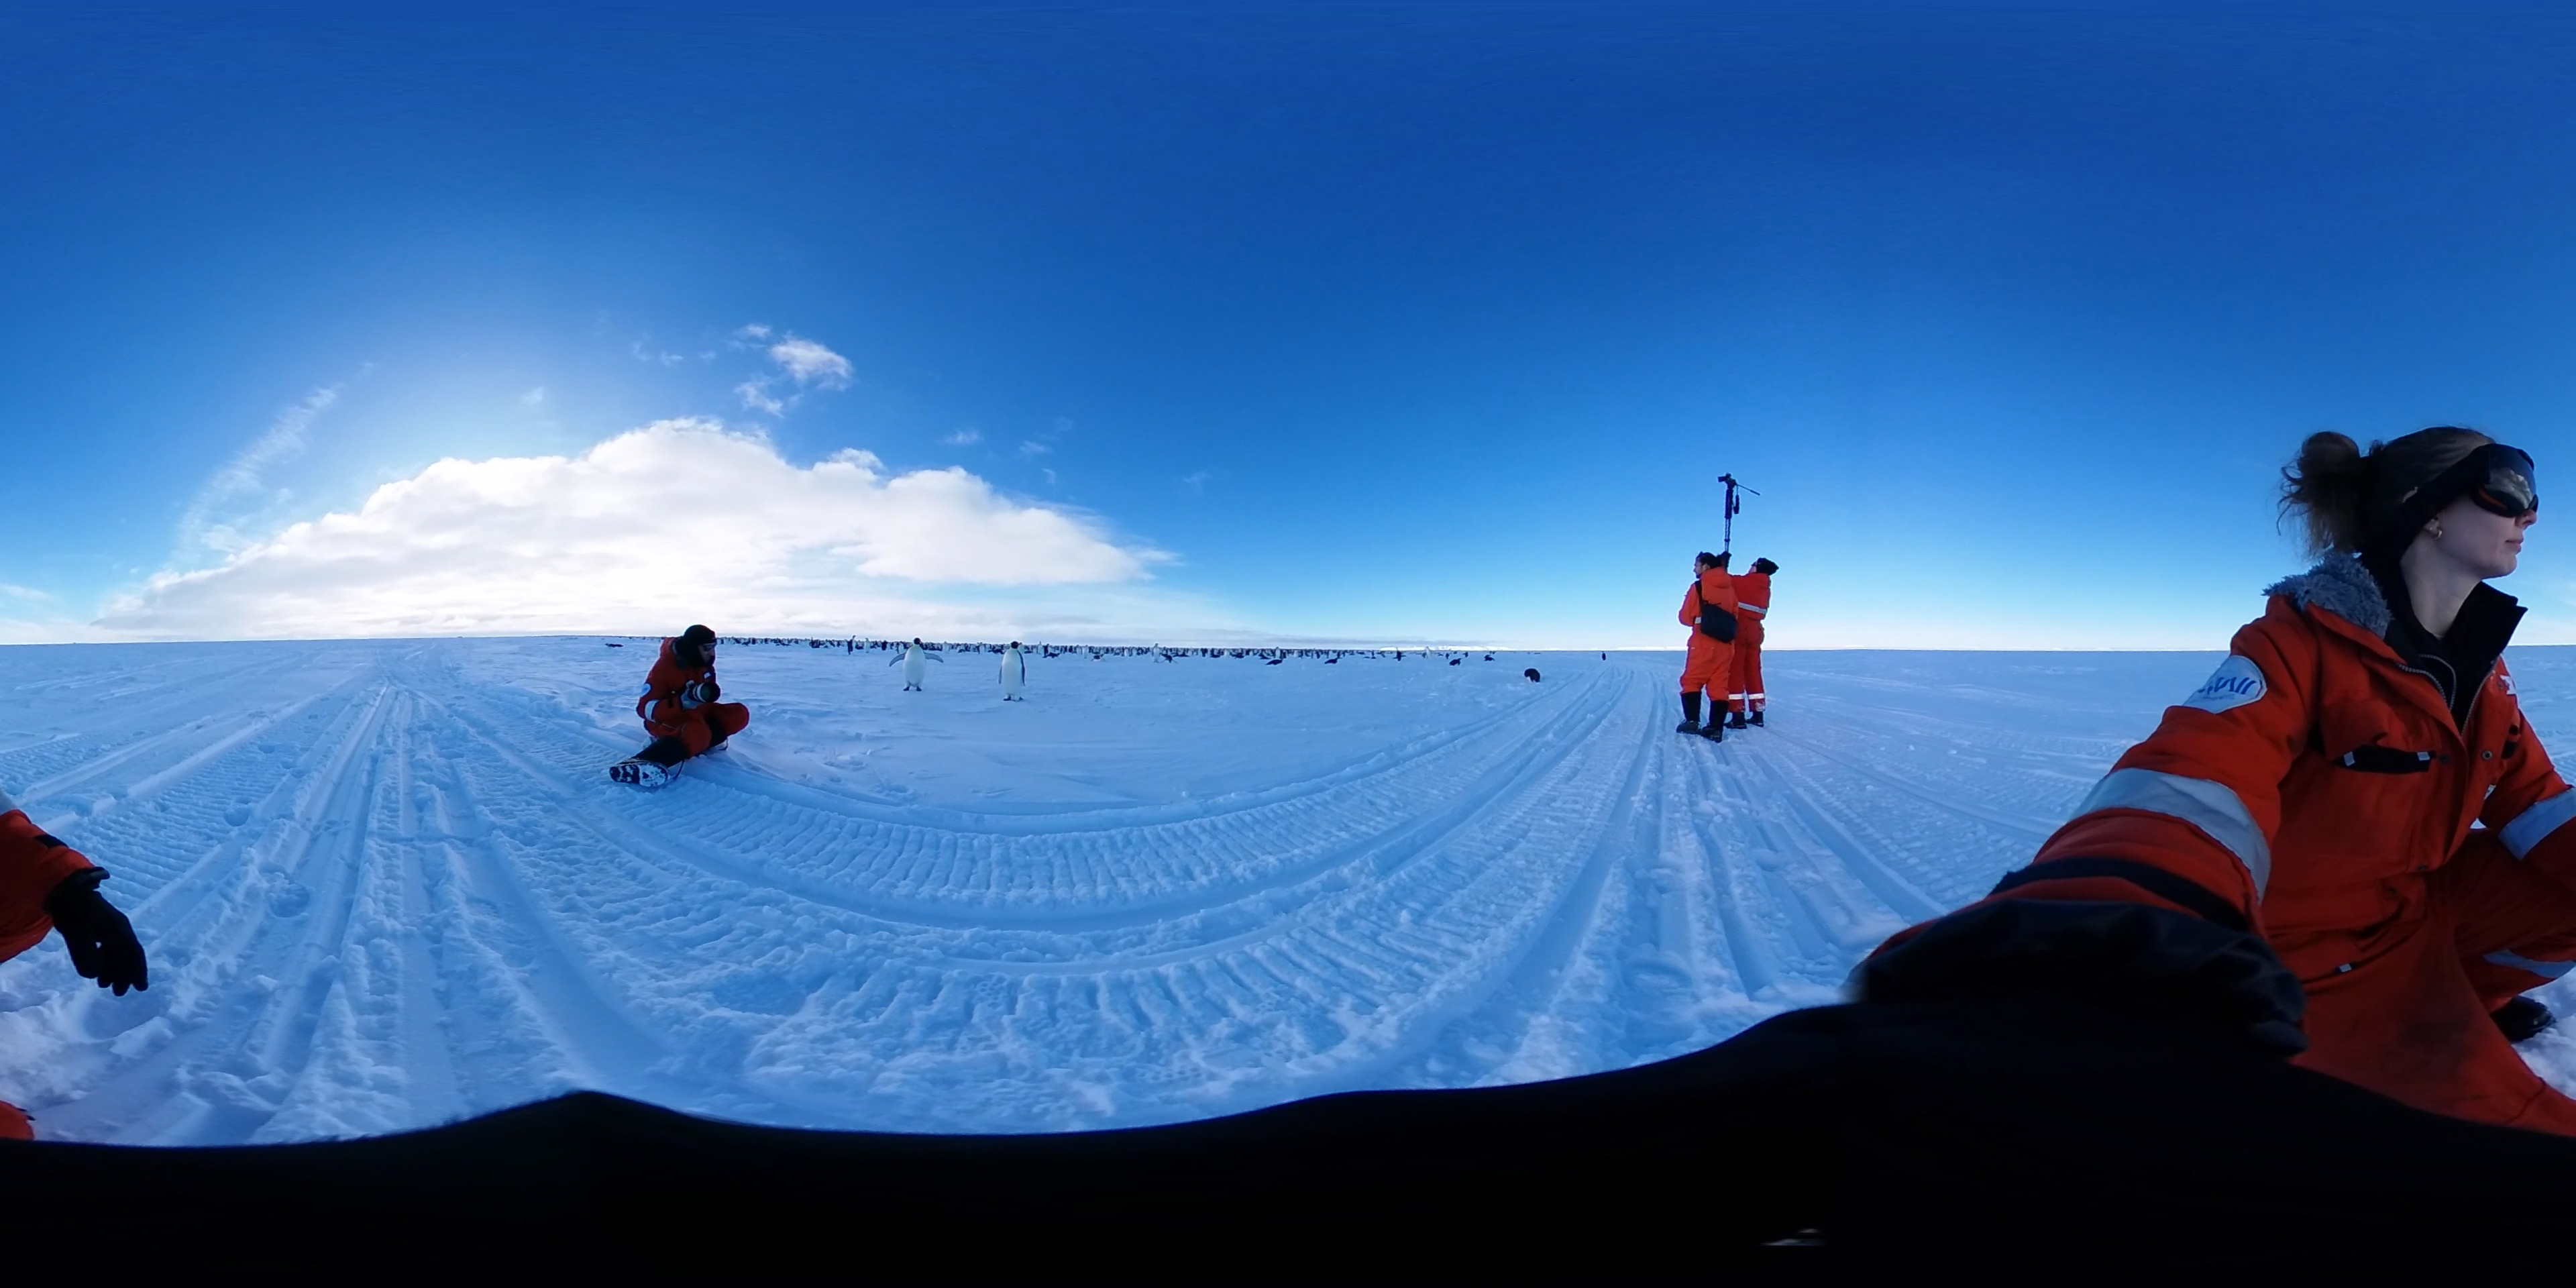adult_standing_penguin: (887, 637, 945, 693), (992, 637, 1028, 705)
adult_toboggan_penguin: (1521, 667, 1543, 687), (1444, 657, 1465, 670), (1322, 655, 1341, 669), (1263, 657, 1285, 667)
researcher: (2091, 409, 2576, 1288), (603, 619, 752, 790), (1674, 545, 1727, 746), (1718, 552, 1778, 729)
